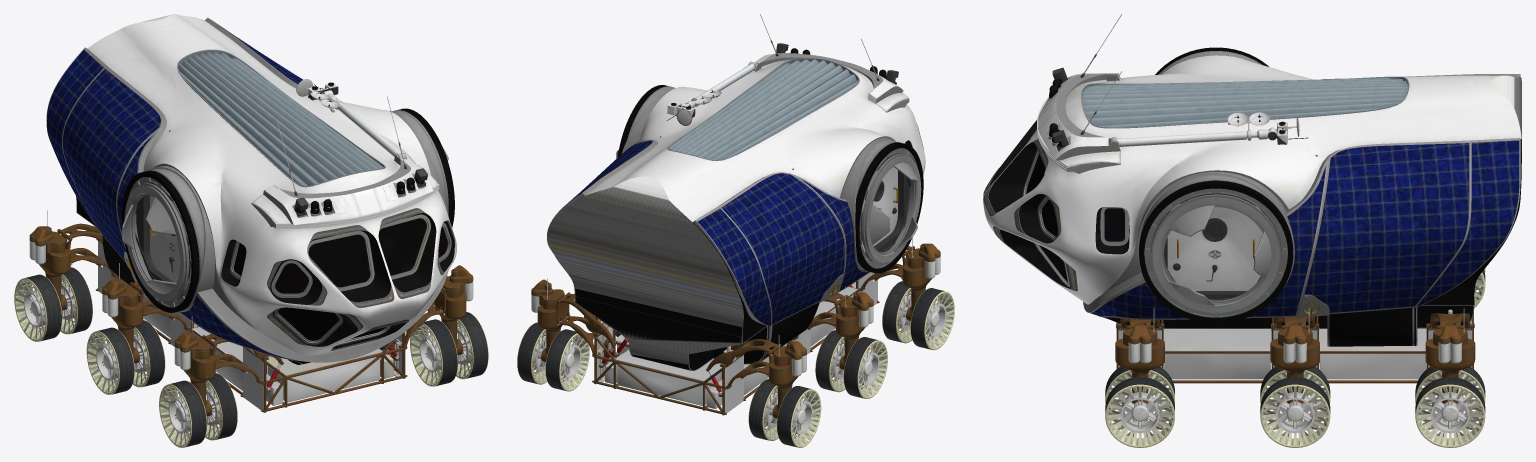
Rendered from sev.glb.
3 views of the same model, side by side, from view 1: azimuth 30°, elevation 25°; view 2: azimuth 150°, elevation 25°; view 3: azimuth 270°, elevation 25° (orthographic). The views are drawn at different scales.
Parts seen in each view (by area): view 1: MMSEV; view 2: MMSEV; view 3: MMSEV.
Boxes of the visible parts, x1,y1,x2,y2 form: MMSEV: (14, 14, 488, 447); MMSEV: (517, 14, 954, 447); MMSEV: (983, 14, 1521, 447).
Size of the model in its own units: 4.04 by 3.97 by 5.91.
1 material, 1 textured.
